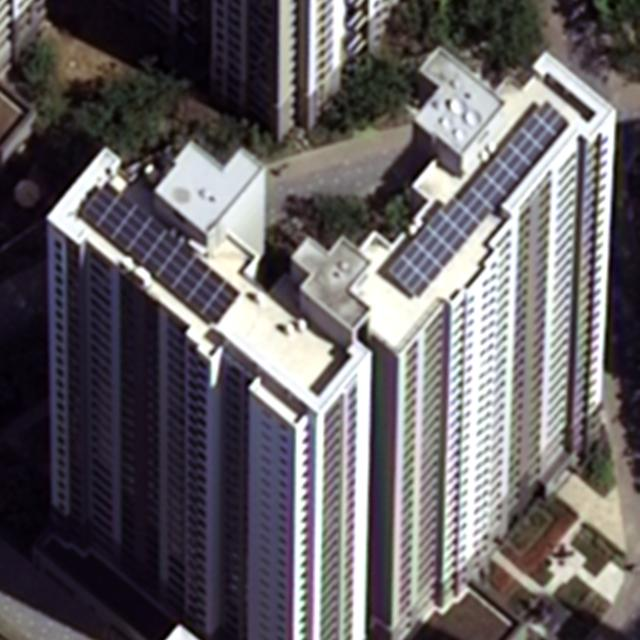panel: (381, 97, 570, 298), (79, 181, 241, 328)
